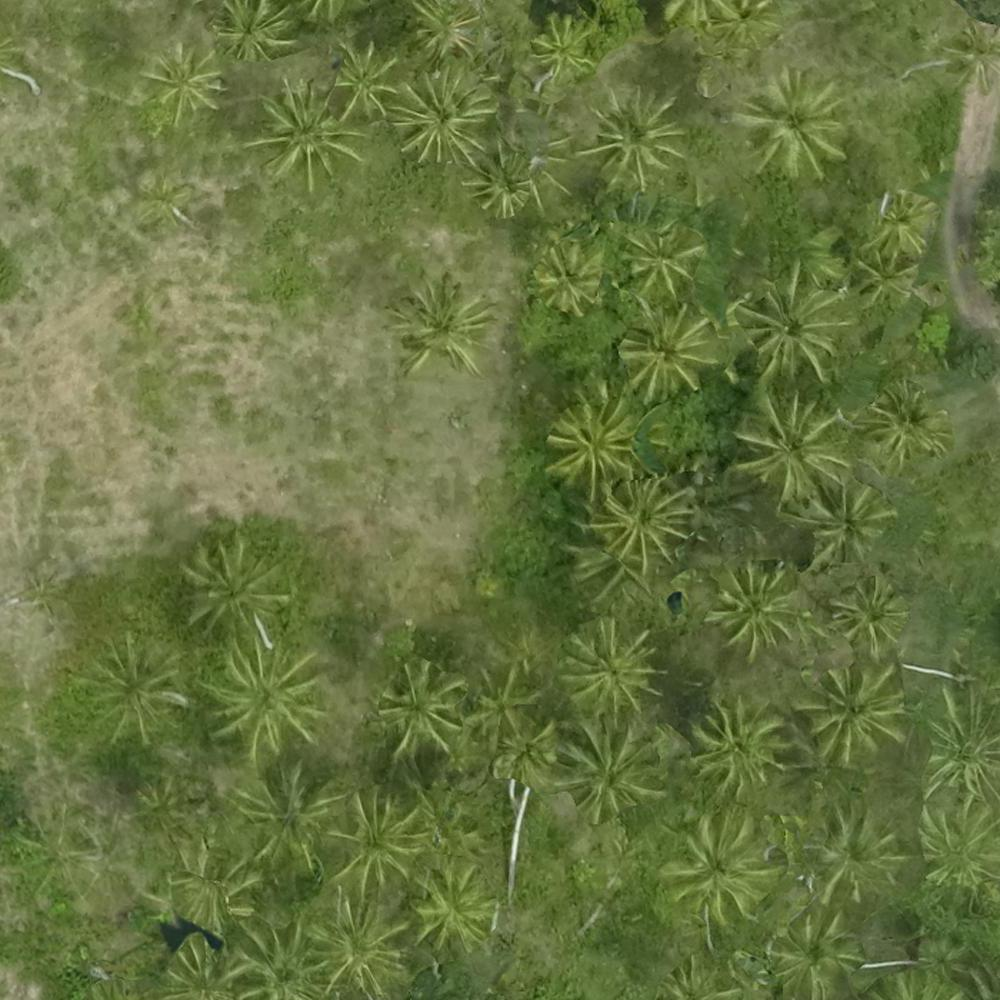Palm: (733, 69, 848, 185), (209, 640, 325, 754), (665, 814, 782, 924), (734, 389, 845, 497), (248, 82, 361, 188), (70, 640, 178, 744), (230, 763, 335, 869), (796, 665, 899, 767), (582, 90, 681, 190), (737, 276, 835, 377), (810, 799, 908, 900), (394, 71, 498, 166), (307, 895, 405, 995), (554, 622, 660, 714), (691, 695, 790, 793), (916, 682, 1000, 797), (560, 719, 661, 814), (546, 396, 645, 490), (184, 542, 286, 632), (393, 275, 488, 371), (325, 795, 421, 890), (622, 306, 720, 399), (375, 663, 465, 758), (600, 478, 696, 567), (710, 563, 805, 649), (770, 910, 862, 996), (805, 484, 896, 563), (405, 871, 497, 948), (918, 800, 1000, 885), (457, 667, 538, 752), (525, 239, 608, 319), (864, 383, 947, 461), (619, 225, 707, 298), (141, 46, 228, 116), (831, 572, 909, 647), (210, 1, 296, 64), (531, 14, 604, 80), (409, 1, 480, 62), (331, 48, 394, 112), (868, 193, 938, 250), (860, 249, 918, 307)
